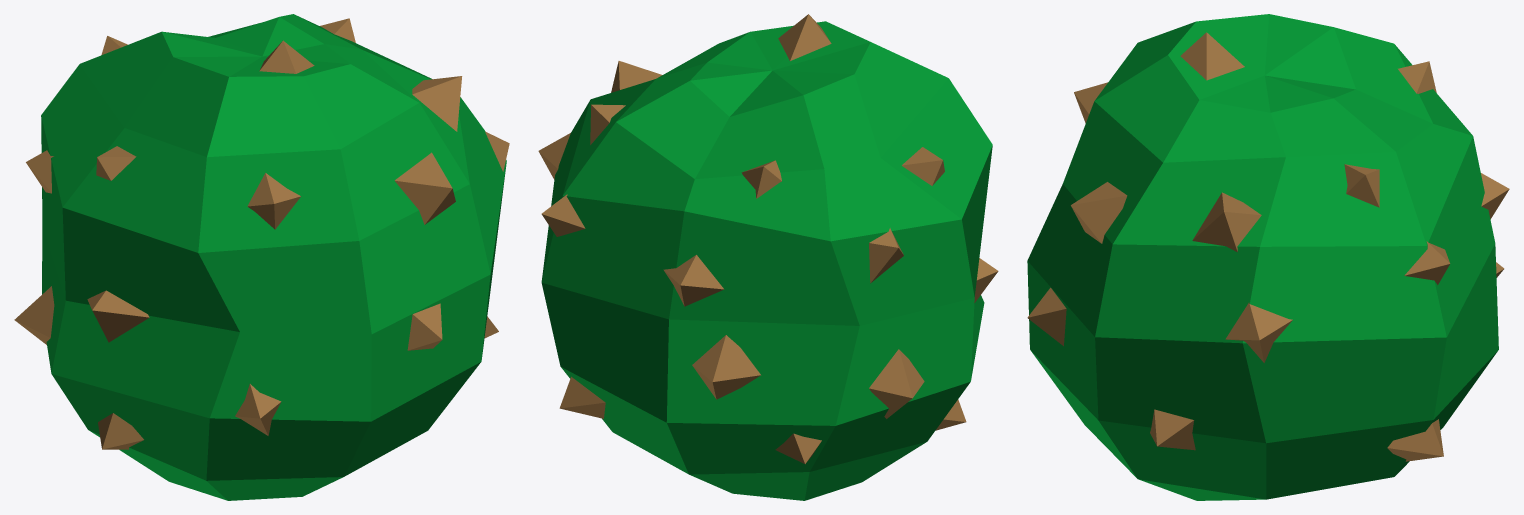
Rendered from Taggbuske.fbx.
3 views of the same model, side by side, from view 1: azimuth 30°, elevation 25°; view 2: azimuth 150°, elevation 25°; view 3: azimuth 270°, elevation 25° (orthographic). The views are drawn at different scales.
Visible parts, largest first — view 1: pPyramid61; view 2: pPyramid61; view 3: pPyramid61.
Boxes of the visible parts, x1,y1,x2,y2 form: pPyramid61: [14, 14, 509, 500]; pPyramid61: [538, 14, 998, 500]; pPyramid61: [1027, 14, 1509, 500].
Size of the model in its own units: 2.98 by 2.85 by 2.75.
